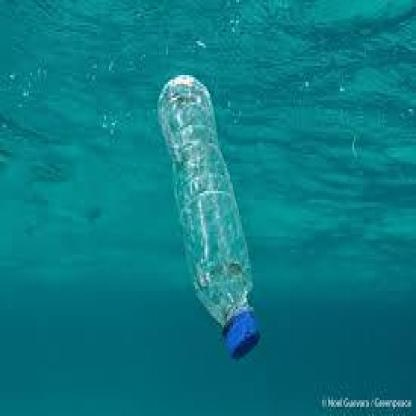pbottle: (147, 66, 263, 366)
